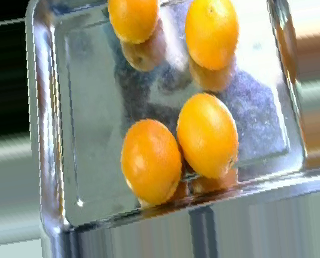Orange: (176, 92, 239, 179), (120, 118, 181, 204), (183, 1, 238, 70)
